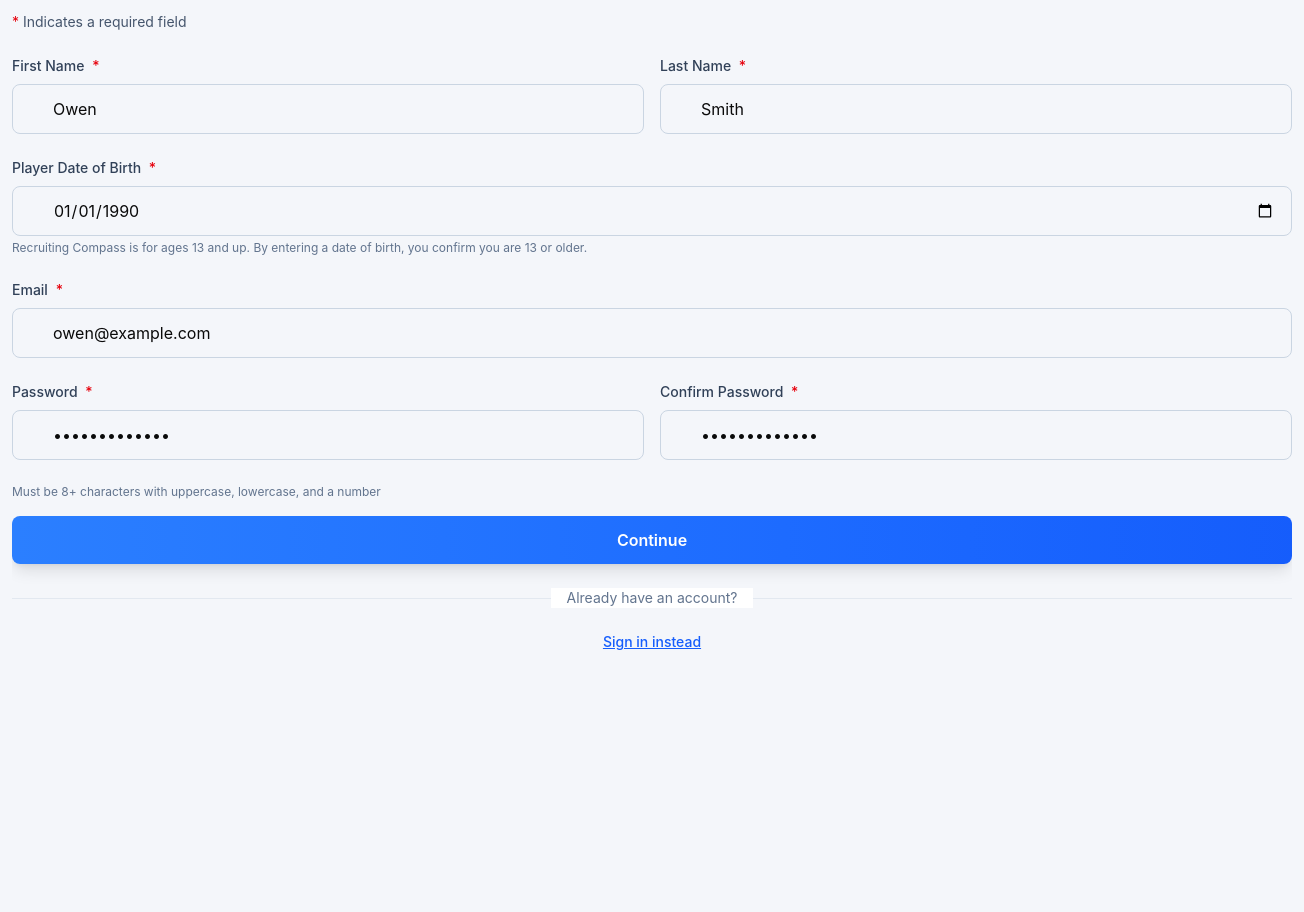
Scenario: SignupForm wizard steps (13-17 player) › skips the guardian step entirely for an 18+ player (requiresGuardian false)
Click the button with test id "signup-step-continue" at coordinates (652, 540), box x1=12 y1=516 x2=1292 y2=564
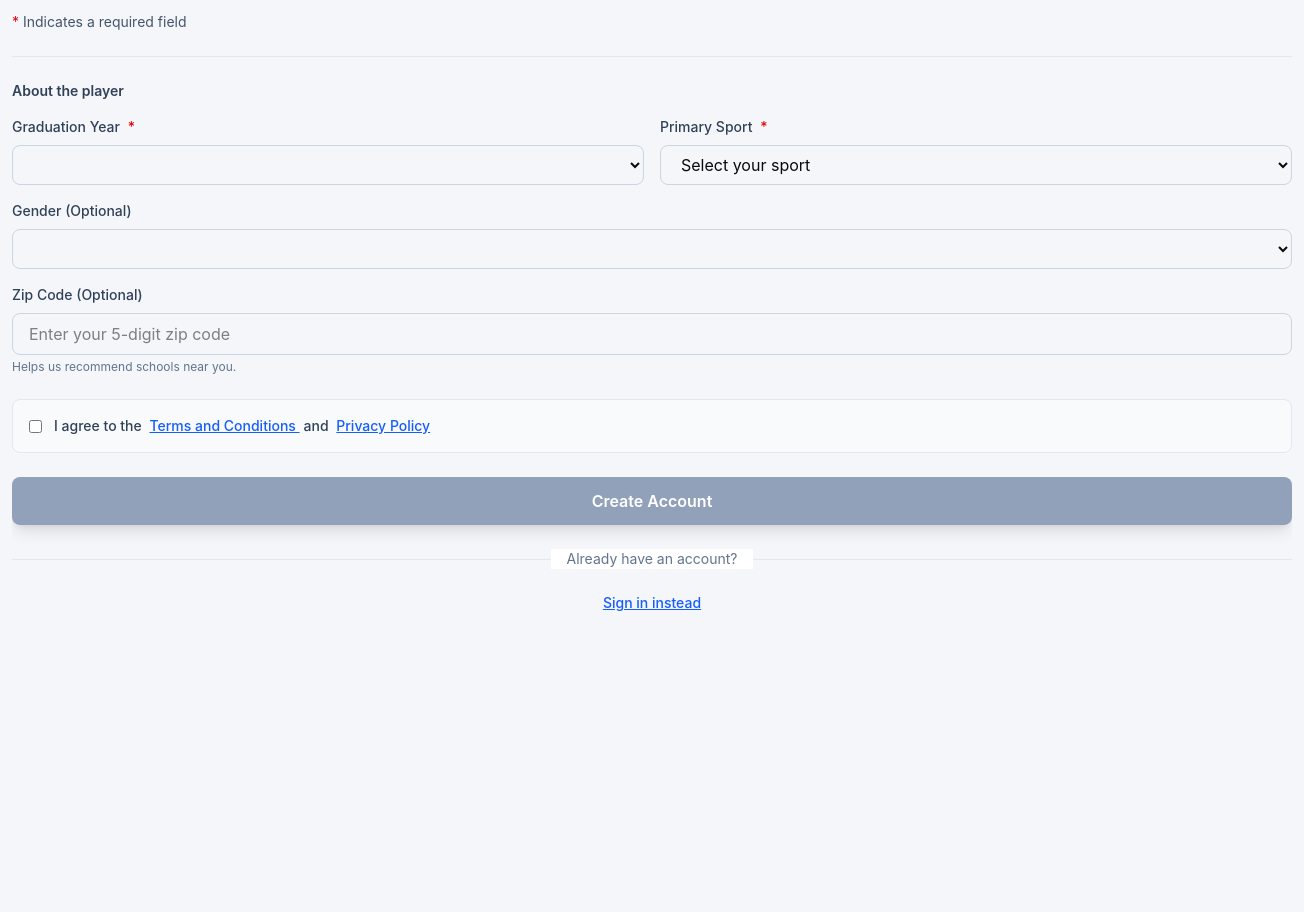
Expected: the dropdown with id "signup-graduation-year" is shown, x1=12 y1=145 x2=644 y2=185
